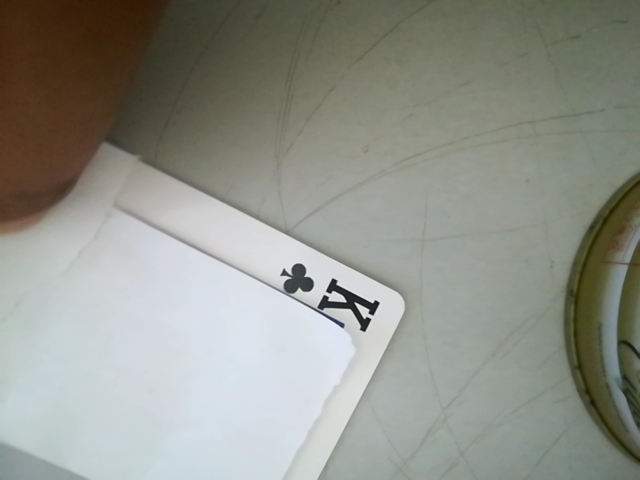mh k: (274, 256, 396, 332)
